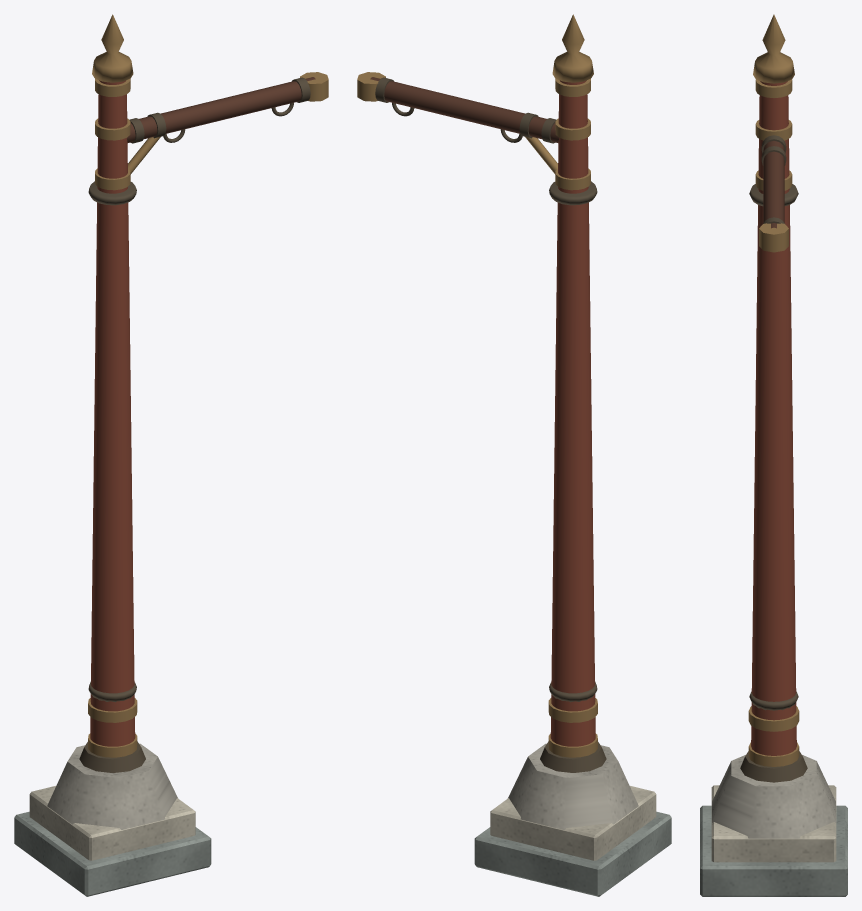
3 views of the same model, side by side, from view 1: azimuth 30°, elevation 25°; view 2: azimuth 150°, elevation 25°; view 3: azimuth 270°, elevation 25° (orthographic).
Visible parts, largest first — view 1: E04_red, E04_cool, E04_stone, E04_gold, E04_light, E04_wood, E04_bronze; view 2: E04_red, E04_cool, E04_stone, E04_gold, E04_light, E04_wood, E04_bronze; view 3: E04_red, E04_stone, E04_cool, E04_gold, E04_light, E04_bronze, E04_wood.
Boxes of the visible parts, x1,y1,x2,y2 form: E04_red: [90, 80, 135, 746]; E04_cool: [14, 811, 211, 896]; E04_stone: [47, 743, 177, 829]; E04_gold: [88, 14, 328, 757]; E04_light: [29, 786, 195, 860]; E04_wood: [127, 77, 315, 142]; E04_bronze: [79, 77, 310, 772]; E04_red: [550, 80, 595, 746]; E04_cool: [474, 811, 671, 896]; E04_stone: [508, 743, 638, 829]; E04_gold: [357, 14, 597, 757]; E04_light: [490, 786, 656, 860]; E04_wood: [370, 77, 558, 142]; E04_bronze: [375, 77, 606, 772]; E04_red: [751, 81, 796, 755]; E04_stone: [712, 755, 835, 838]; E04_cool: [700, 805, 847, 896]; E04_gold: [748, 14, 799, 766]; E04_light: [711, 785, 836, 862]; E04_bronze: [740, 135, 807, 782]; E04_wood: [763, 141, 784, 228].
Bounding box in the file's own units: 1.41 × 4.07 × 0.64.
7 materials, 3 textured.
